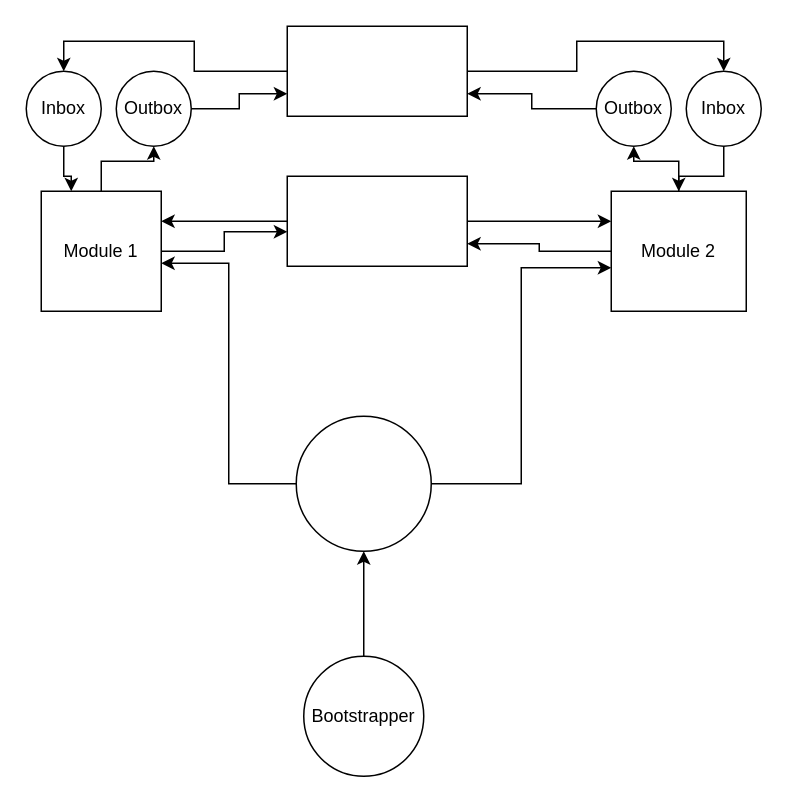
Image size: 788x803. Some labels were removed from this diagram. The shapes that lost their labels are listed below. From the top down, each one's centre as x and y in pixels, then its label:
At point 376,70: "MessageBroker".
At point 376,220: "Service Container".
At point 363,483: "ModuleLoader".
